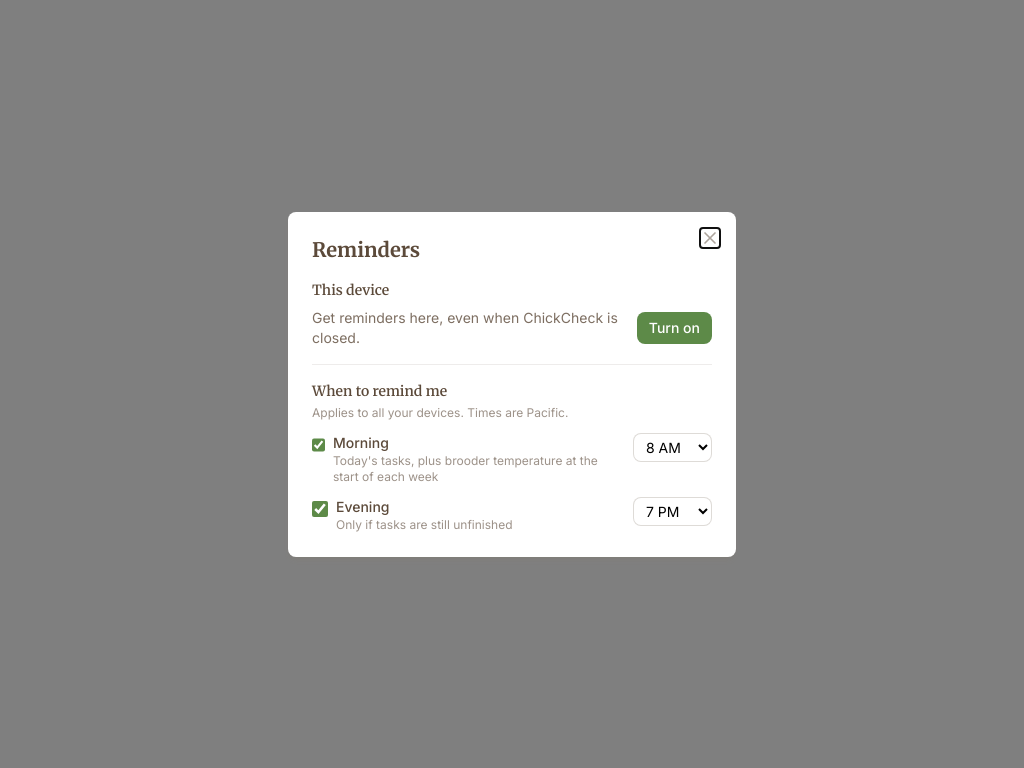
it: ReminderSettingsModal › should undo the change and show an error if saving fails
What coordinates should you click on to do the following:
click the checkbox labelled "Morning"
I would click on:
 (318, 444)
Its box is [312, 436, 325, 452].
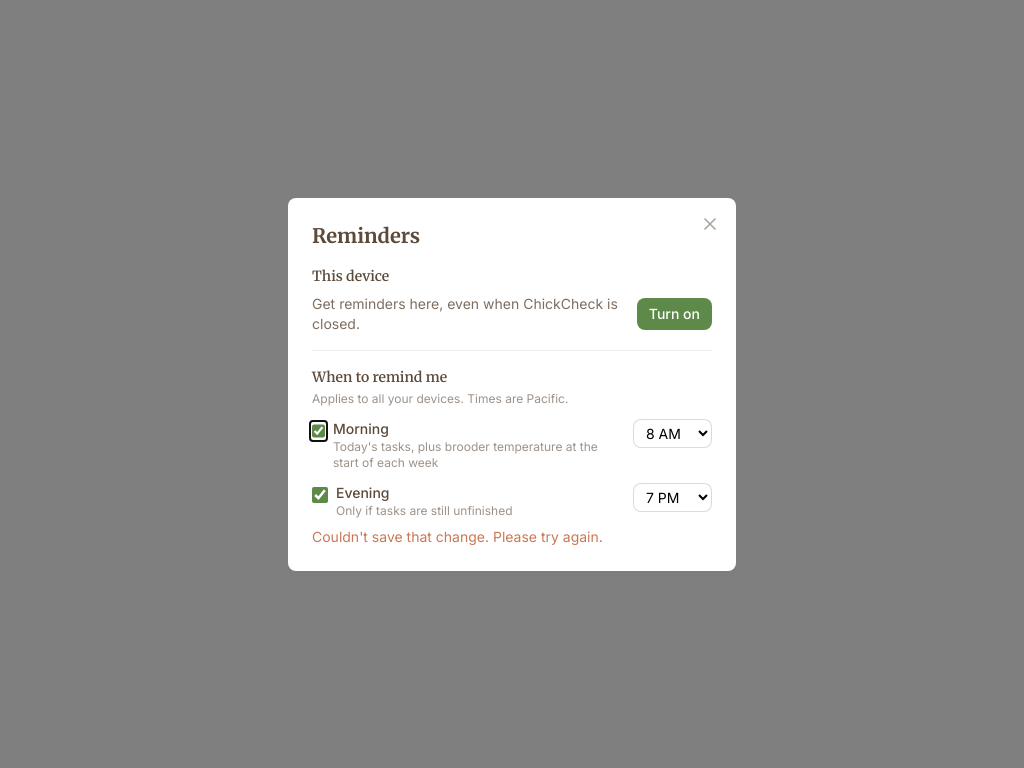
Expected: the checkbox labelled "Morning" is checked, [312, 422, 325, 438]
Now the text "Couldn't save that change. Please try again." is shown, box [312, 528, 603, 544]
